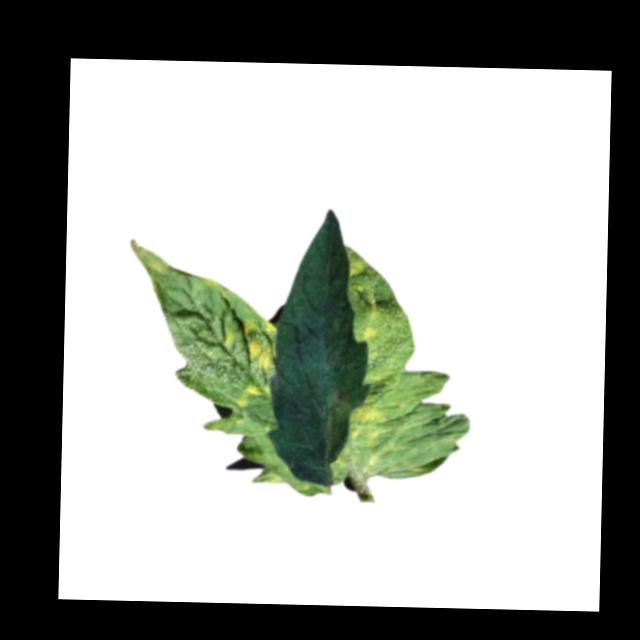Leaf_Mold: (220, 316, 277, 368), (346, 407, 389, 441), (233, 379, 263, 410)
